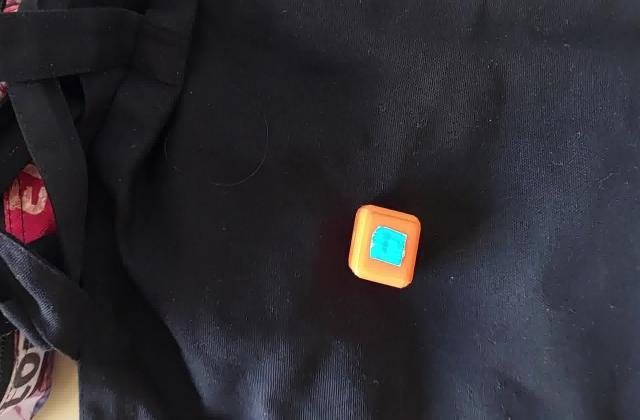blue: (378, 232, 402, 262)
sticker: (343, 202, 422, 292)
